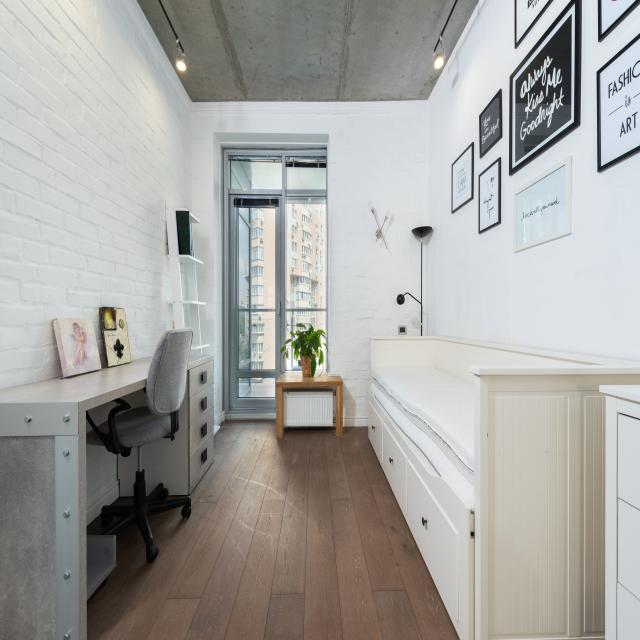floor: (87, 419, 461, 640)
wall: (192, 101, 429, 426), (427, 0, 640, 360), (0, 402, 81, 640), (213, 133, 223, 426), (86, 444, 120, 528), (179, 262, 189, 301), (183, 304, 192, 328)
